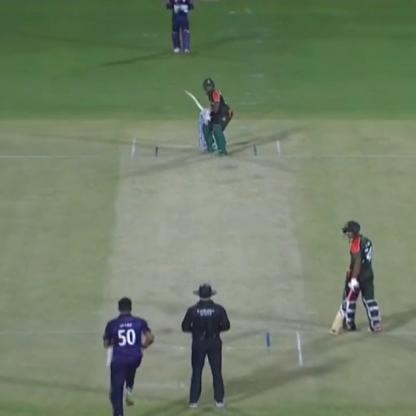pitch: (98, 134, 313, 372)
